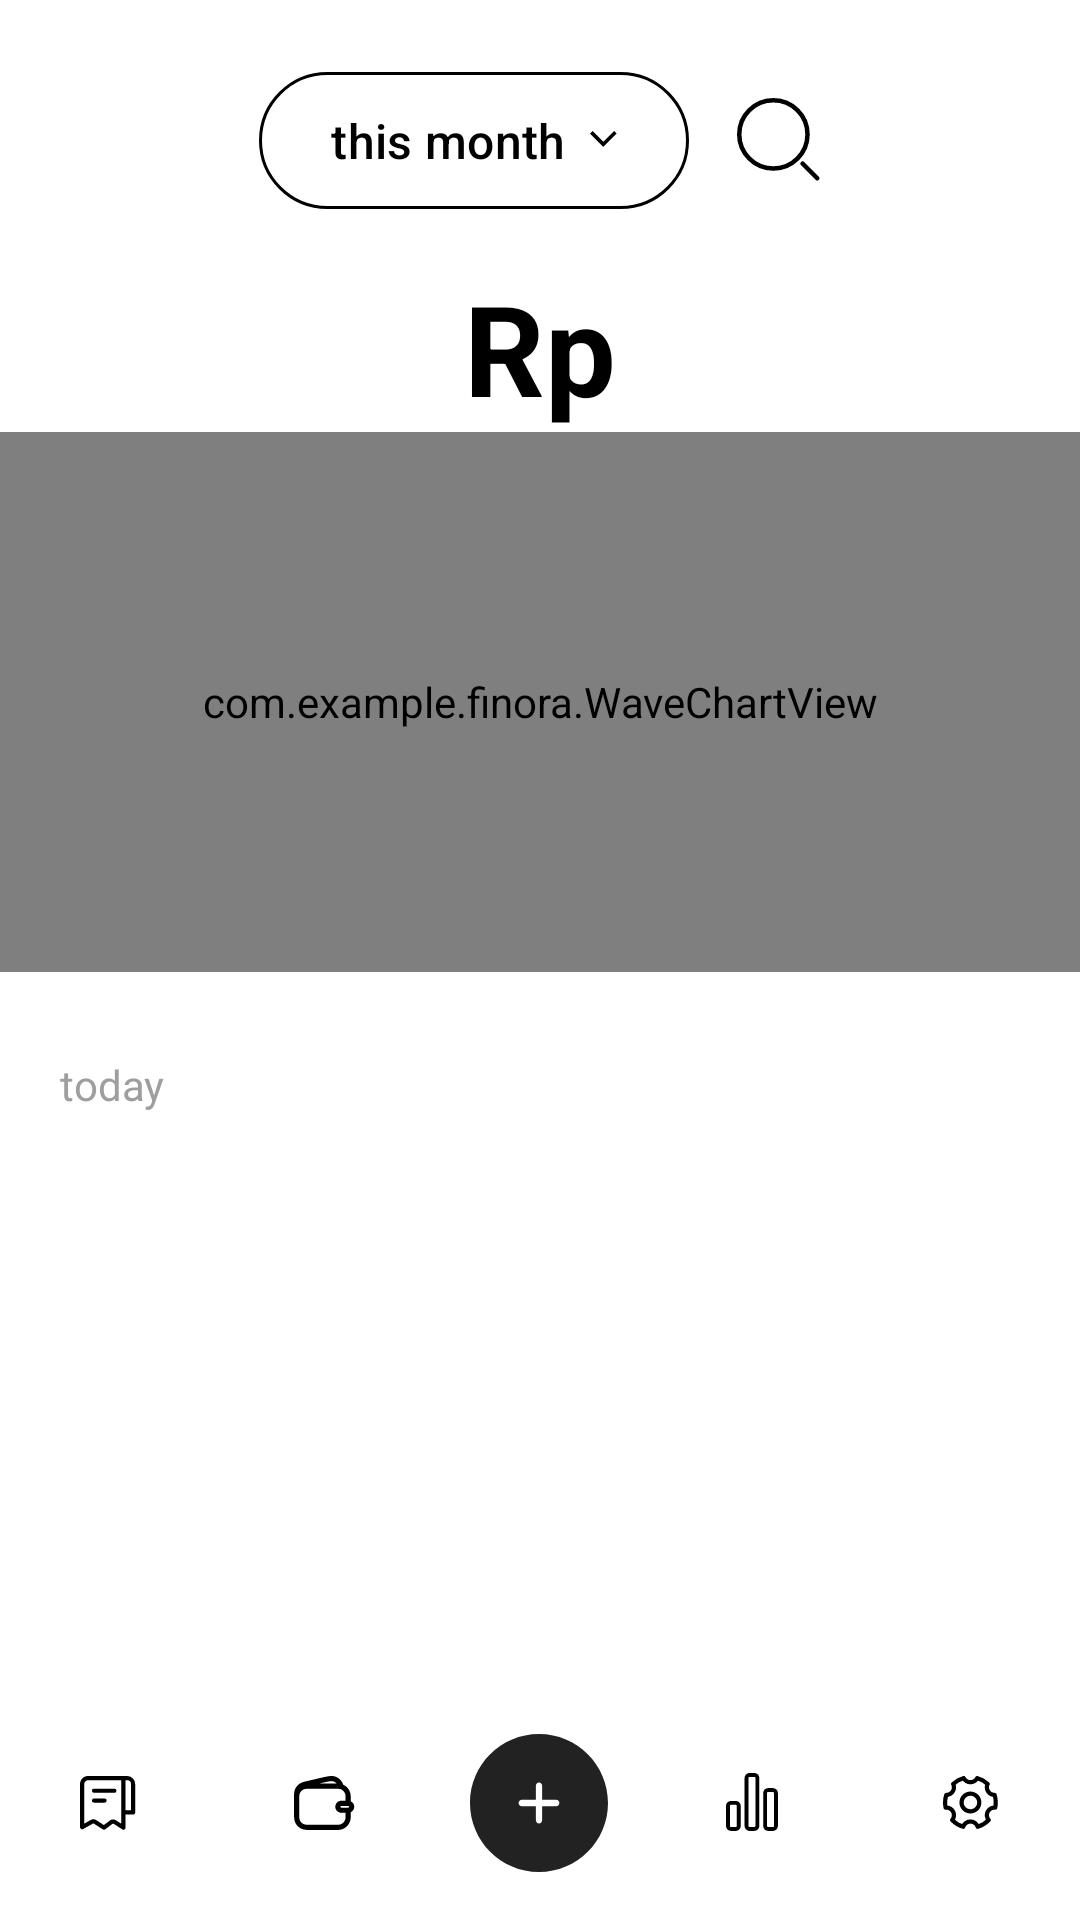

Named icons in this screenshot (1080w x 1920h) and their centers, point (x, y):
add: point (539, 1803)
bill: point (108, 1803)
setting: point (970, 1802)
stats: point (752, 1802)
wallet: point (324, 1803)
